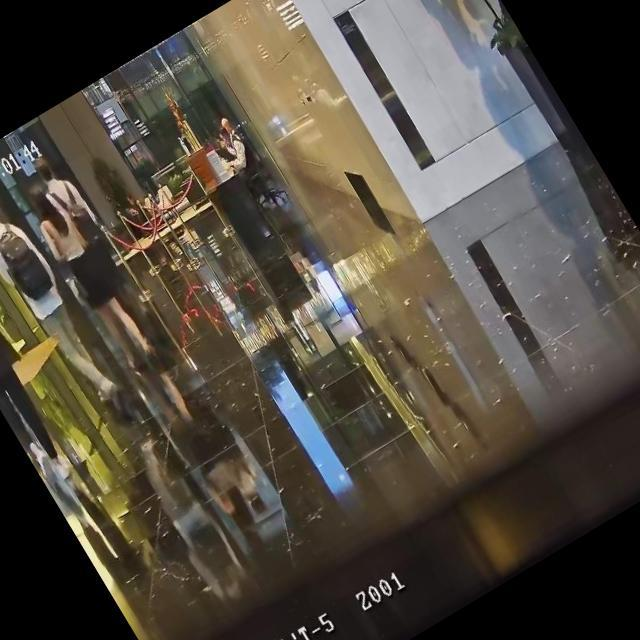person: (8, 150, 180, 386), (24, 146, 183, 377), (0, 179, 127, 415), (0, 243, 84, 486), (210, 121, 260, 180), (219, 114, 245, 148)
